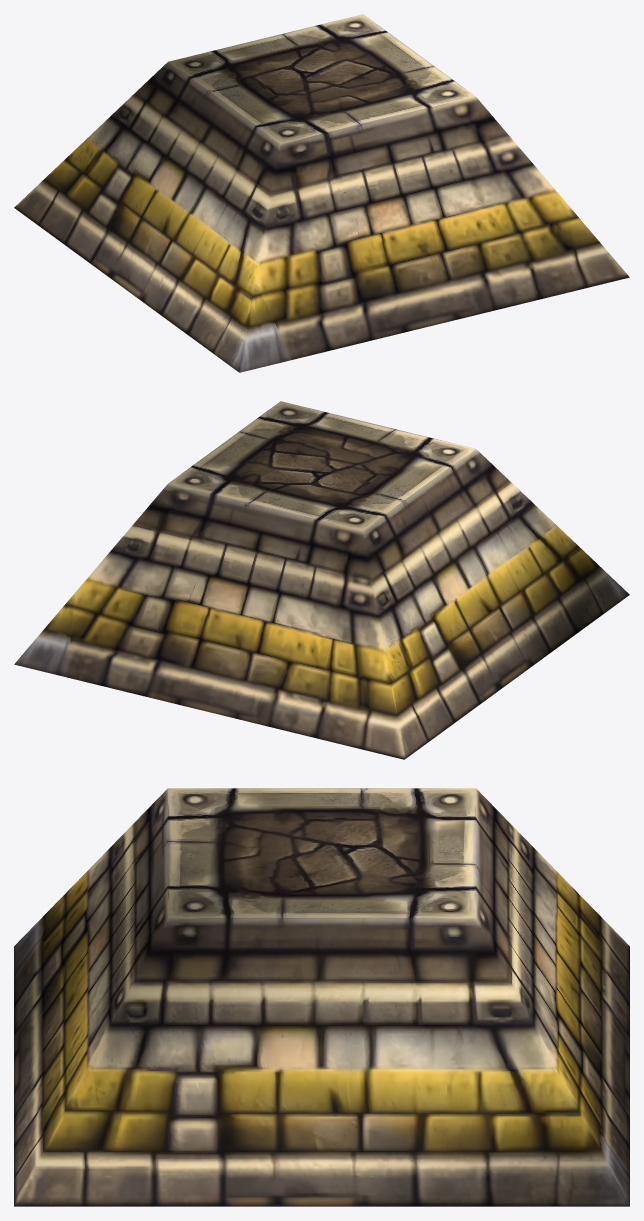
Rendered from Meshy_AI__0513161257_texture.fbx.
3 views of the same model, one above another, from view 1: azimuth 30°, elevation 25°; view 2: azimuth 150°, elevation 25°; view 3: azimuth 270°, elevation 25° (orthographic). The views are drawn at different scales.
Parts seen in each view (by area): view 1: Mesh_0; view 2: Mesh_0; view 3: Mesh_0.
Boxes of the visible parts, x1=… form: Mesh_0: x1=14, y1=14, x2=629, y2=372; Mesh_0: x1=14, y1=401, x2=629, y2=759; Mesh_0: x1=14, y1=788, x2=629, y2=1206.
Bounding box in the file's own units: 250 × 100 × 250.
1 material, 1 textured.
